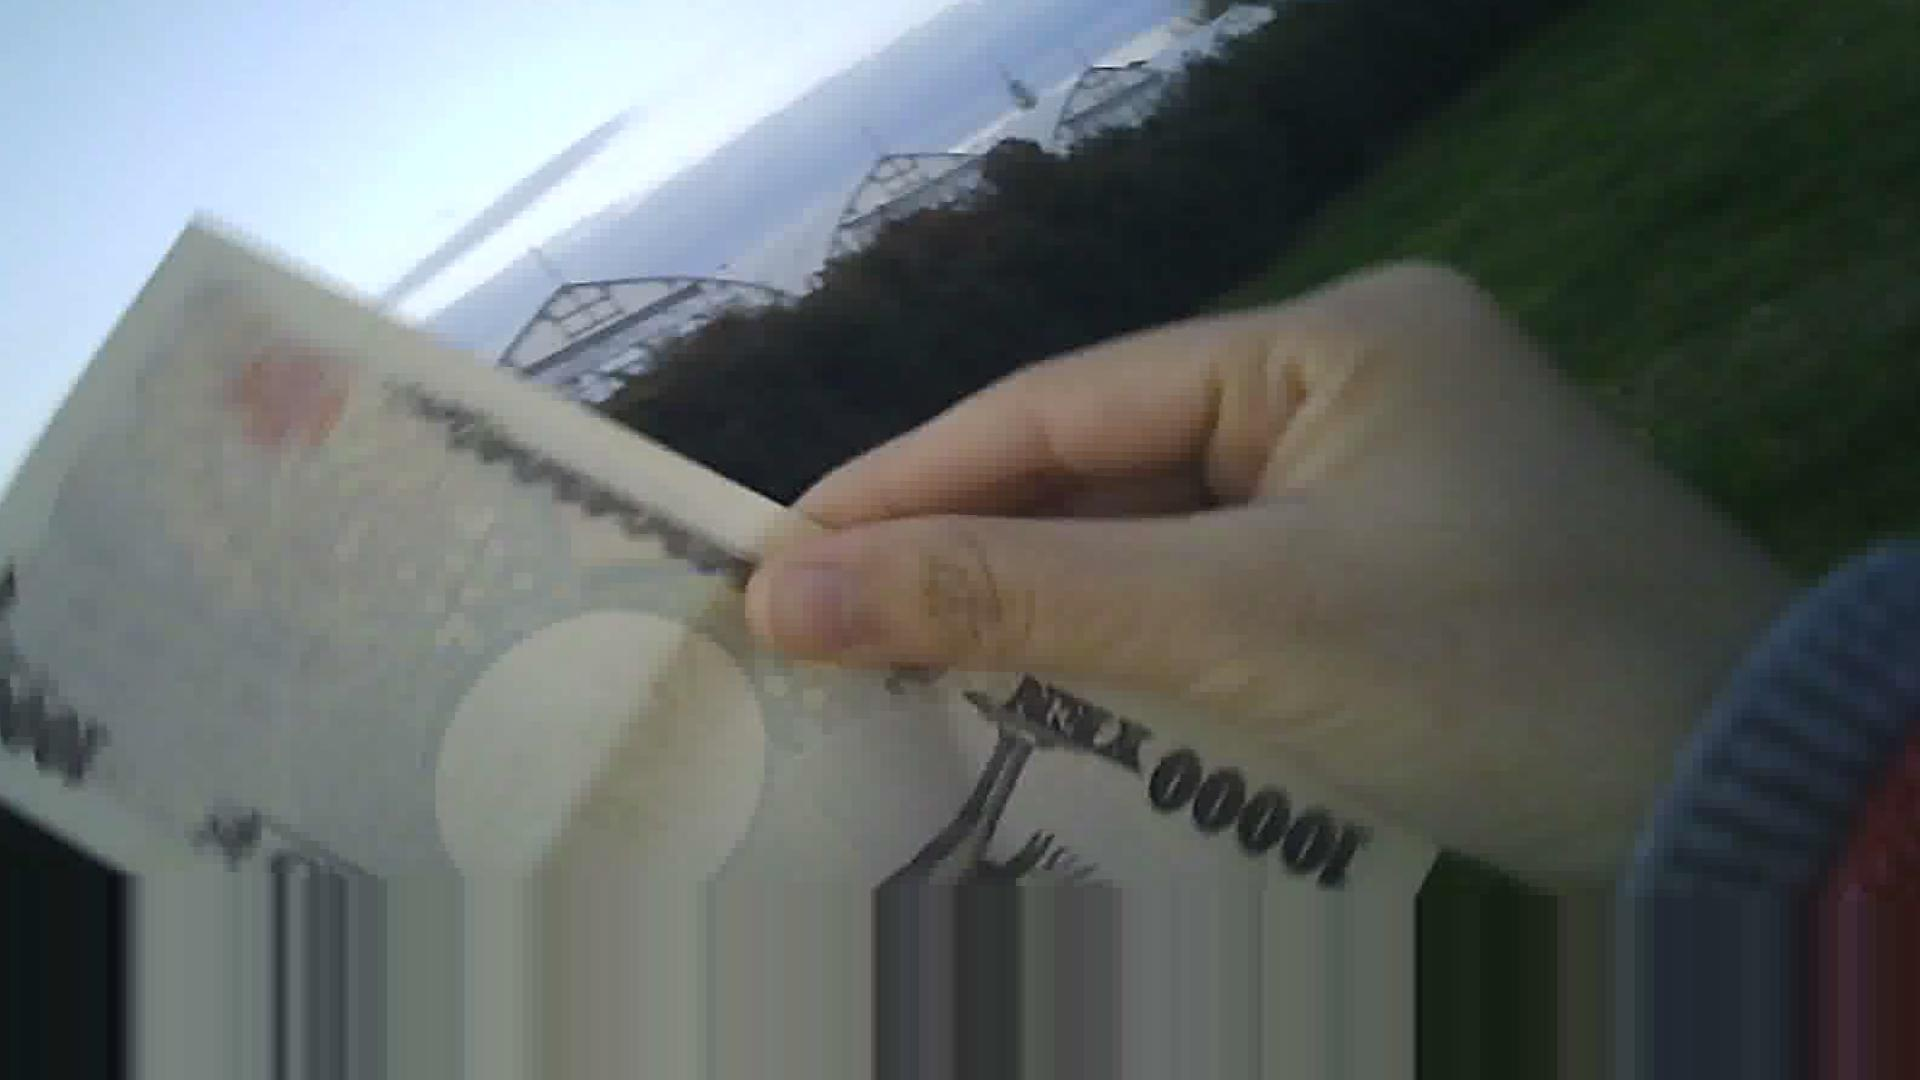10,000 Yen: (22, 193, 1503, 899)
